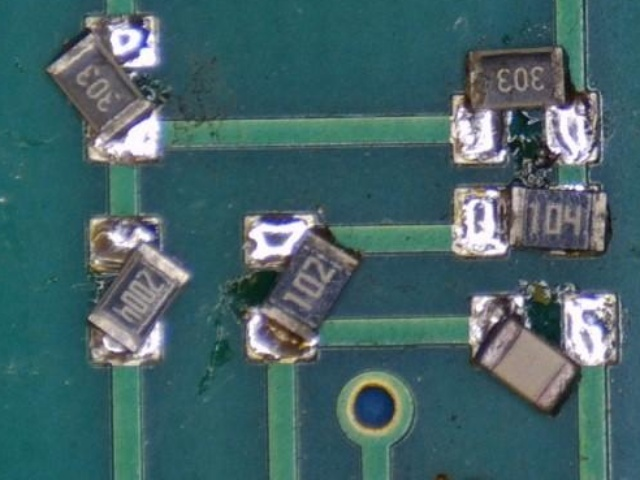pcb_defect: (469, 292, 618, 417), (450, 45, 601, 168), (242, 213, 363, 362), (44, 14, 163, 164), (84, 216, 194, 366), (452, 183, 609, 258), (350, 476, 530, 480)
